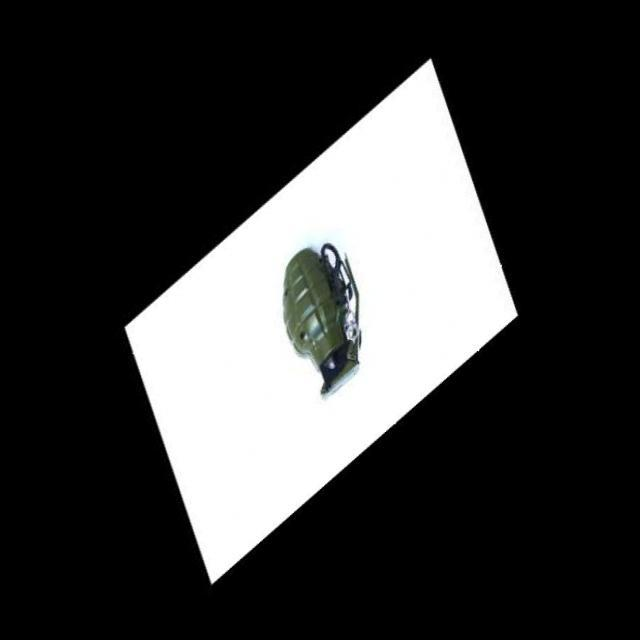grenade: (240, 226, 390, 413)
